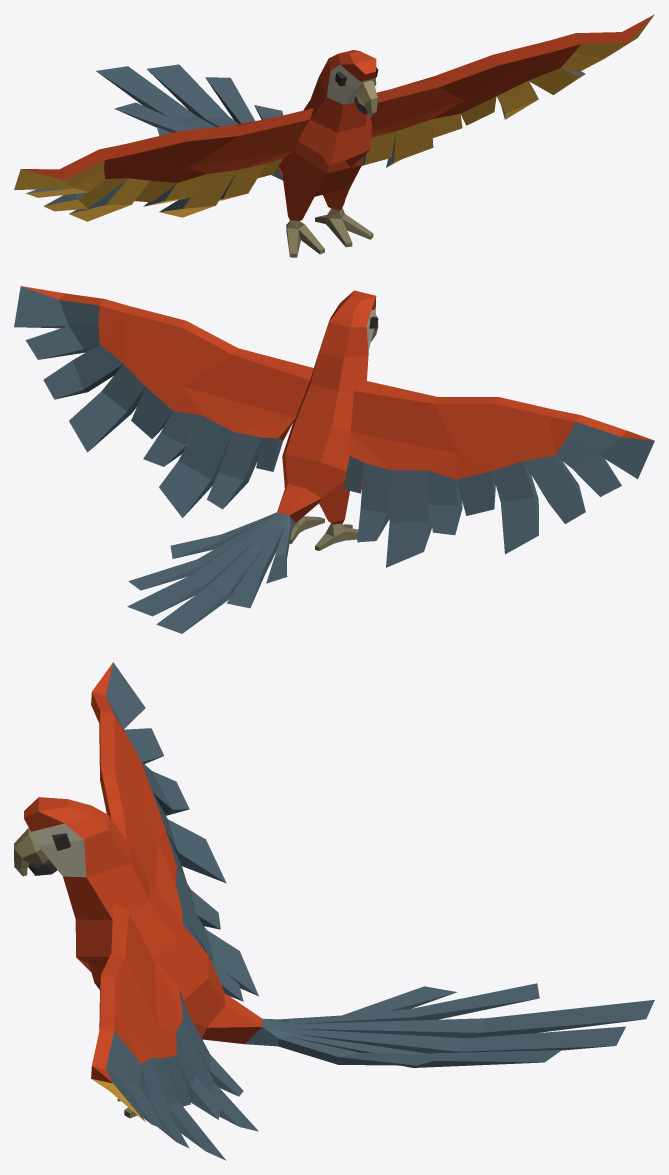
The model's file is Parrot.fbx.
The picture shows the model from 3 angles, top to bottom: view 1: azimuth 30°, elevation 25°; view 2: azimuth 150°, elevation 25°; view 3: azimuth 270°, elevation 25°; orthographic projection. The views are drawn at different scales.
Parts seen in each view (by area): view 1: Parrot; view 2: Parrot; view 3: Parrot.
Boxes of the visible parts, <box> form: Parrot: <box>14,14,654,257</box>; Parrot: <box>14,286,654,633</box>; Parrot: <box>14,662,654,1160</box>.
Bounding box in the file's own units: 145 × 46.07 × 92.93.
